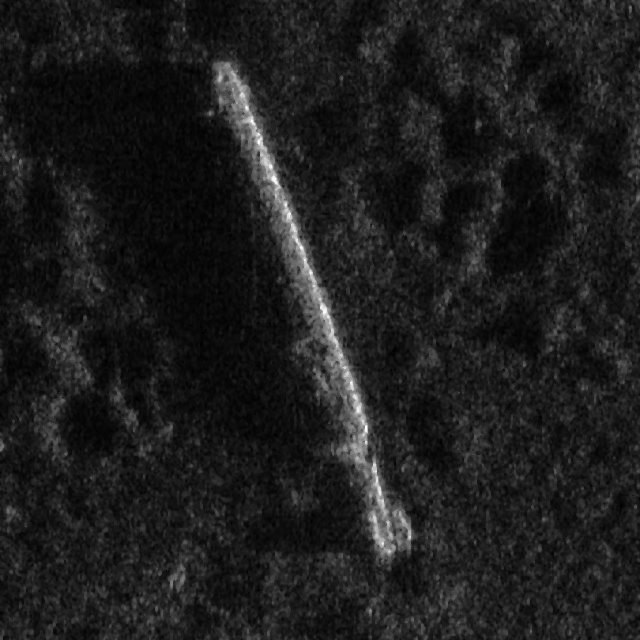Ship: (197, 47, 423, 570)
